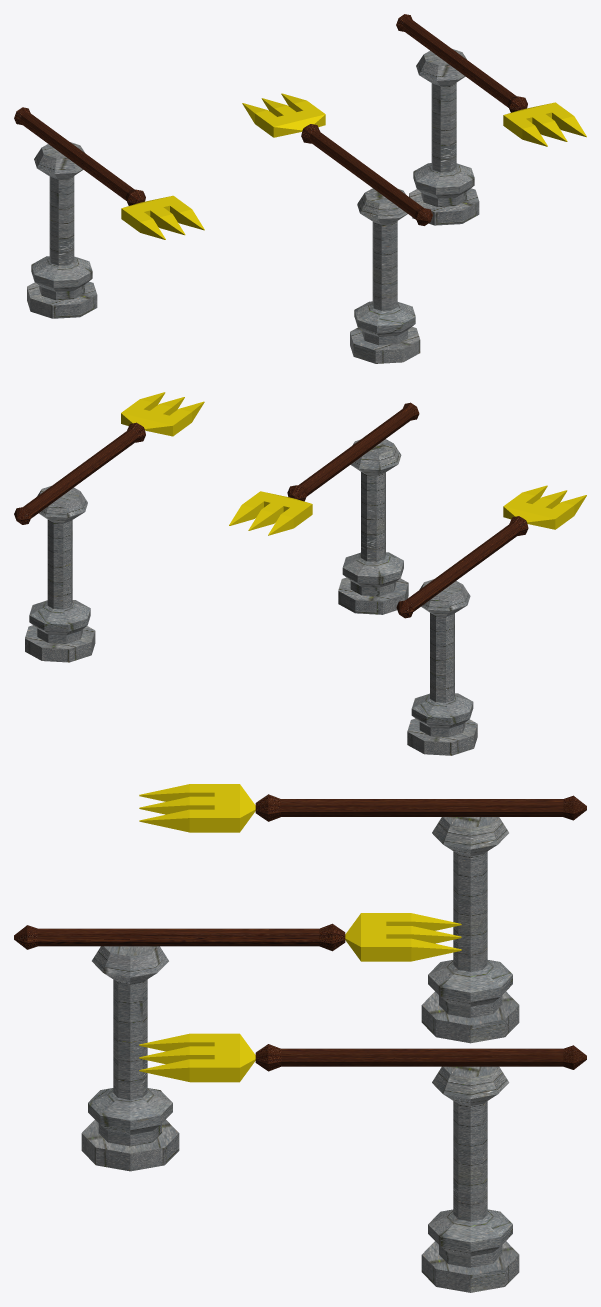
File: Trishul.fbx
3 renders of one model, top to bottom at view 1: azimuth 30°, elevation 25°; view 2: azimuth 150°, elevation 25°; view 3: azimuth 270°, elevation 25°, orthographic. The views are drawn at different scales.
Parts seen in each view (by area): view 1: Pillar2.002, Pillar2.001, Pillar2.003, Cylinder, Cylinder.001, Cylinder.002, Cube.001, Cube.002, Cube; view 2: Pillar2.003, Pillar2.001, Pillar2.002, Cylinder.001, Cylinder.002, Cylinder, Cube, Cube.001, Cube.002; view 3: Pillar2.003, Pillar2.001, Pillar2.002, Cylinder, Cylinder.002, Cylinder.001, Cube.002, Cube, Cube.001.
Part boxes in pixels (x1,y1,x2,y2): Pillar2.002: [350, 188, 420, 363]; Pillar2.001: [27, 142, 97, 318]; Pillar2.003: [409, 49, 479, 225]; Cylinder: [301, 124, 432, 225]; Cylinder.001: [14, 107, 145, 205]; Cylinder.002: [396, 14, 527, 112]; Cube.001: [121, 195, 204, 239]; Cube.002: [503, 102, 586, 146]; Cube: [242, 93, 325, 137]; Pillar2.003: [25, 485, 95, 662]; Pillar2.001: [407, 579, 477, 755]; Pillar2.002: [338, 439, 408, 614]; Cylinder.001: [396, 516, 528, 618]; Cylinder.002: [14, 422, 145, 524]; Cylinder: [287, 402, 419, 501]; Cube: [229, 491, 312, 535]; Cube.001: [503, 485, 586, 529]; Cube.002: [121, 392, 204, 436]; Pillar2.003: [421, 1066, 519, 1292]; Pillar2.001: [421, 817, 519, 1043]; Pillar2.002: [81, 946, 179, 1171]; Cylinder: [14, 923, 345, 951]; Cylinder.002: [255, 1044, 586, 1071]; Cylinder.001: [255, 794, 586, 821]; Cube.002: [139, 1033, 255, 1082]; Cube: [345, 913, 461, 961]; Cube.001: [139, 784, 255, 832].
Size of the model in its own units: 17.09 by 6.23 by 14.23.
